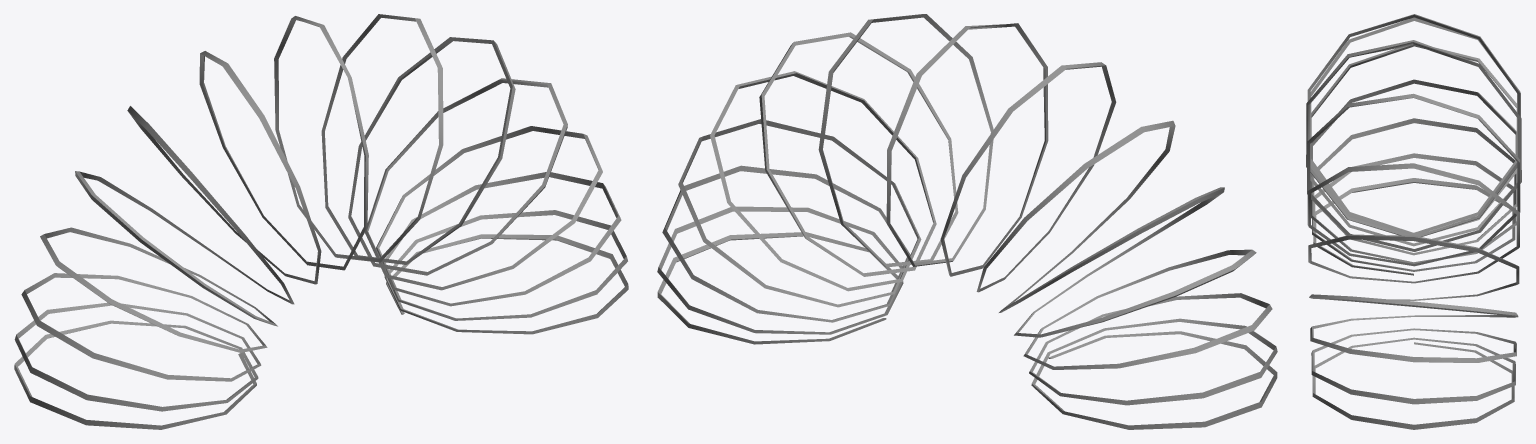
The model's file is Prize_Slinky.fbx.
3 views of the same model, side by side, from view 1: azimuth 30°, elevation 25°; view 2: azimuth 150°, elevation 25°; view 3: azimuth 270°, elevation 25° (orthographic). The views are drawn at different scales.
Parts seen in each view (by area): view 1: Baytekmall_Slinky; view 2: Baytekmall_Slinky; view 3: Baytekmall_Slinky.
Part boxes in pixels (left/top/right/bottom): Baytekmall_Slinky: left=14, top=14, right=628, bottom=429; Baytekmall_Slinky: left=657, top=14, right=1277, bottom=429; Baytekmall_Slinky: left=1306, top=14, right=1521, bottom=429.
Size of the model in its own units: 23.54 by 11.94 by 8.69.
